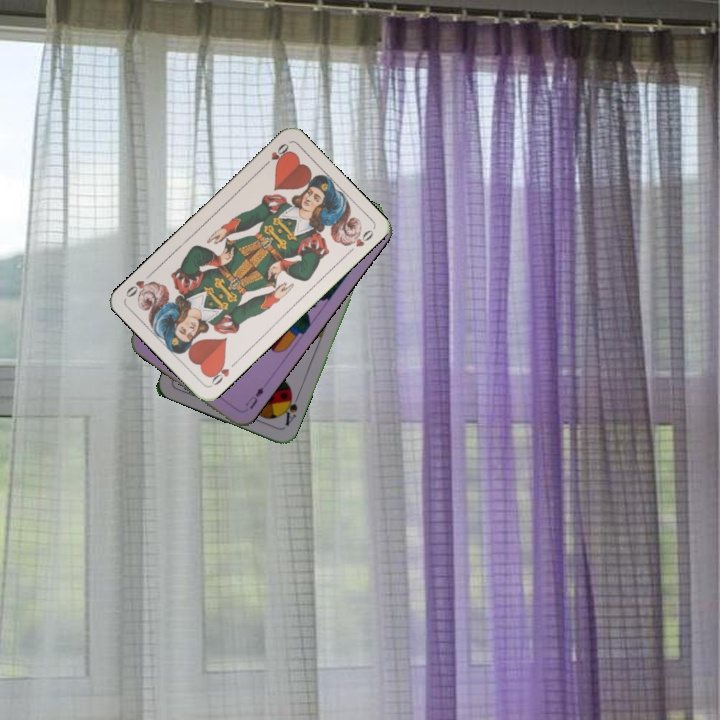EU: (241, 383, 267, 412)
HO: (205, 357, 240, 389), (258, 139, 292, 170)
SA: (278, 389, 302, 428)
